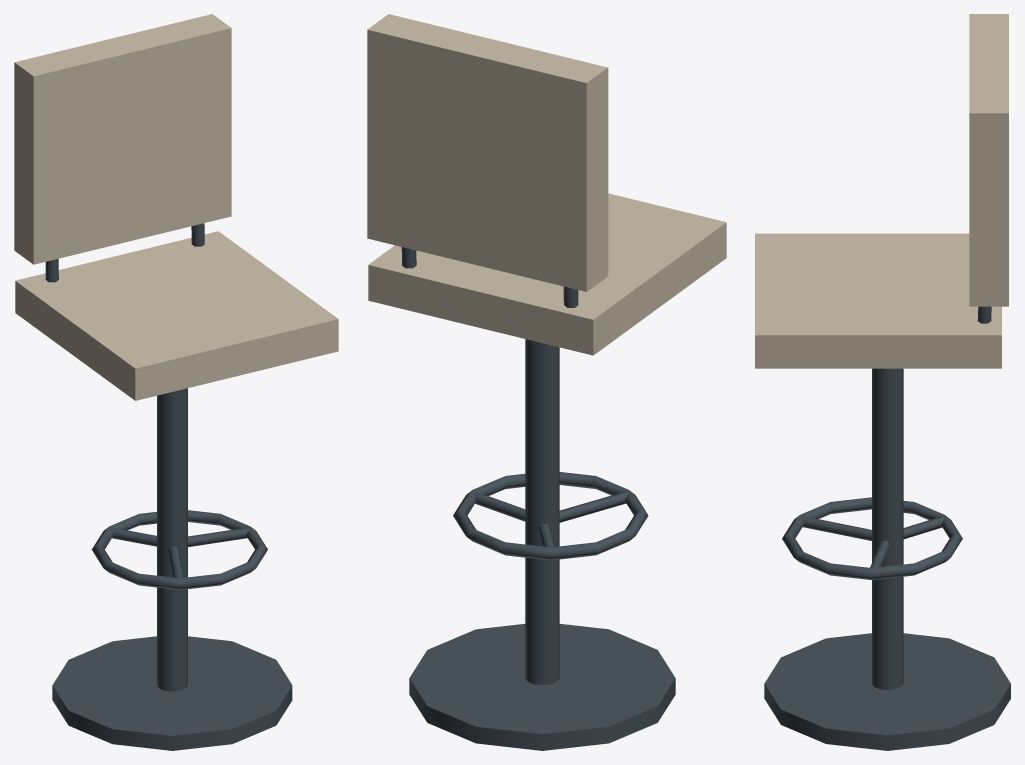
Rendered from barStool-3.glb.
3 renders of one model, left to right at view 1: azimuth 30°, elevation 25°; view 2: azimuth 150°, elevation 25°; view 3: azimuth 270°, elevation 25°, orthographic. The views are drawn at different scales.
Visible parts, largest first — view 1: barStool:3:editor; view 2: barStool:3:editor; view 3: barStool:3:editor.
Boxes of the visible parts, x1,y1,x2,y2 form: barStool:3:editor: [14, 14, 338, 750]; barStool:3:editor: [367, 14, 726, 750]; barStool:3:editor: [755, 14, 1010, 750].
Size of the model in its own units: 0.4042 by 1.15 by 0.4196.
